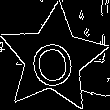O_N: (27, 29, 79, 88)
